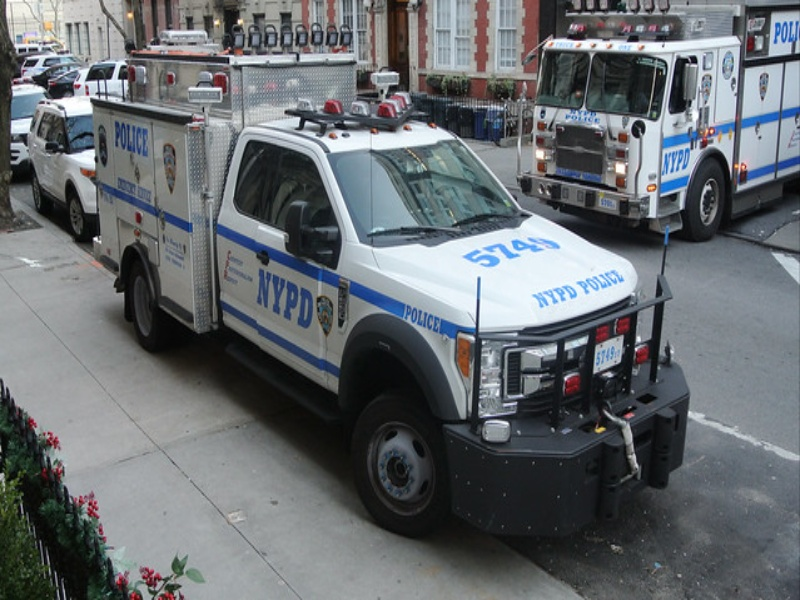policetruck: (87, 17, 740, 528), (527, 10, 800, 218)
